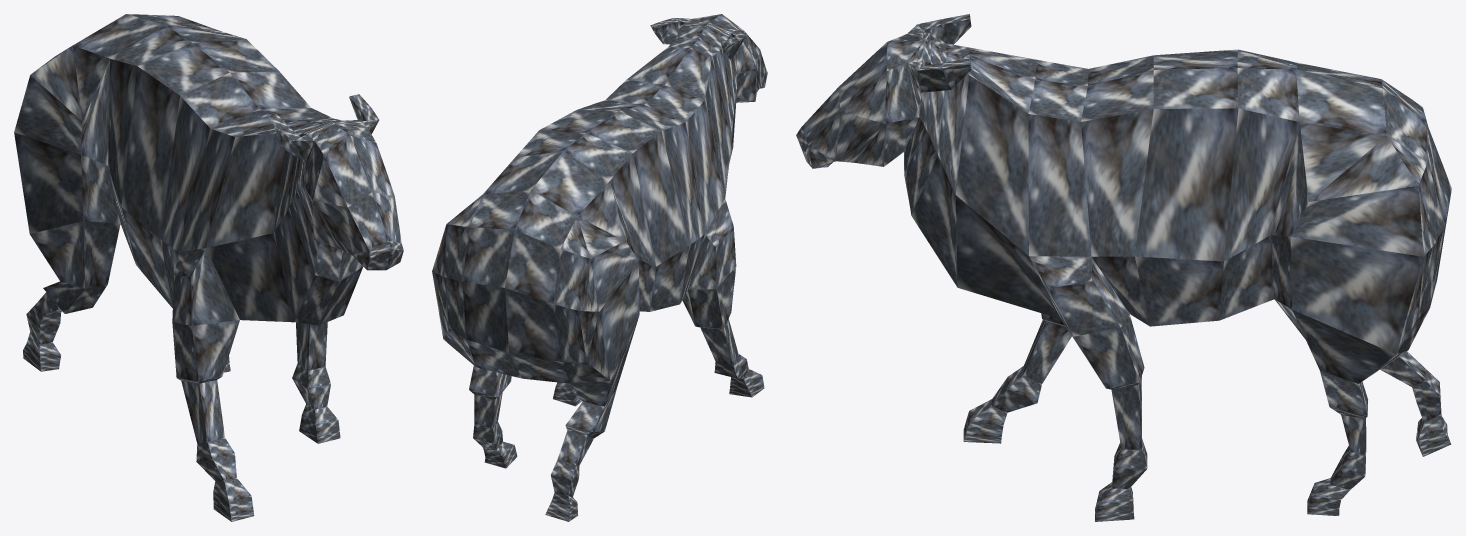
Rendered from SheepIdle_000026.obj.
3 views of the same model, side by side, from view 1: azimuth 30°, elevation 25°; view 2: azimuth 150°, elevation 25°; view 3: azimuth 270°, elevation 25° (orthographic). The views are drawn at different scales.
Visible parts, largest first — view 1: Sheep_Cylinder; view 2: Sheep_Cylinder; view 3: Sheep_Cylinder.
Part boxes in pixels (x1=…): Sheep_Cylinder: x1=14, y1=14, x2=403, y2=521; Sheep_Cylinder: x1=432, y1=14, x2=767, y2=521; Sheep_Cylinder: x1=796, y1=14, x2=1451, y2=521.
Size of the model in its own units: 2.22 by 4.43 by 5.92.
